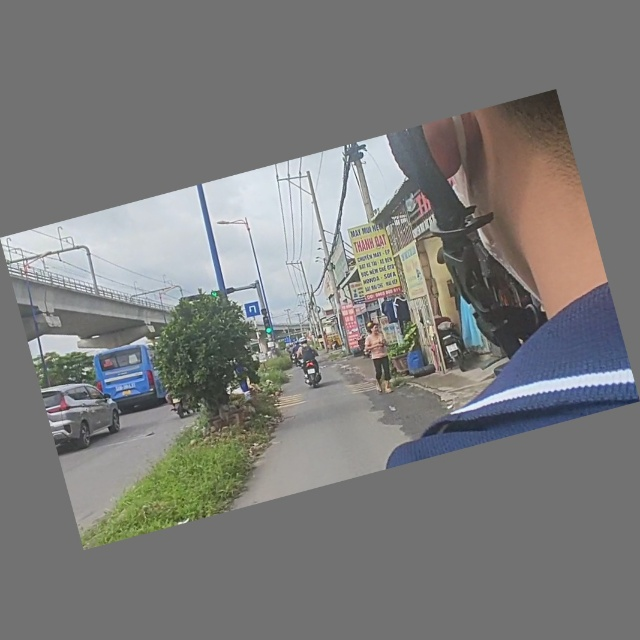I.409: (243, 300, 263, 321)
